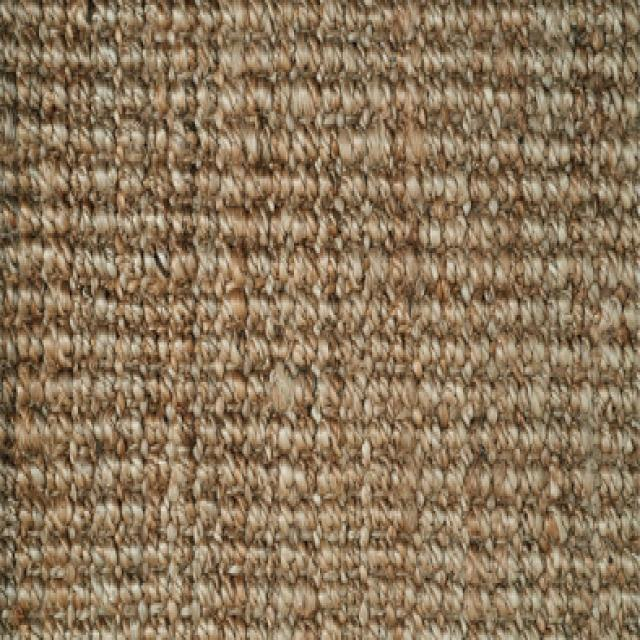Knot: (244, 494, 274, 546), (116, 120, 146, 166), (490, 465, 519, 510), (520, 465, 549, 510), (143, 248, 169, 296), (390, 463, 414, 514), (92, 164, 118, 211), (366, 127, 393, 172), (168, 123, 196, 166), (14, 332, 44, 372), (367, 83, 396, 124), (44, 245, 71, 289), (338, 171, 366, 213), (15, 244, 43, 286), (339, 252, 367, 294), (340, 296, 368, 338), (92, 578, 120, 620), (522, 126, 548, 171), (521, 380, 550, 420), (319, 376, 344, 422), (470, 1, 498, 42), (41, 120, 69, 161), (528, 2, 554, 46), (220, 80, 246, 124), (292, 250, 318, 294), (493, 336, 523, 374), (246, 80, 273, 122), (293, 82, 320, 124), (47, 334, 74, 376), (40, 164, 68, 204), (416, 465, 444, 505), (548, 126, 572, 172), (552, 384, 575, 432), (14, 204, 43, 242), (218, 298, 247, 336), (219, 124, 244, 168), (494, 170, 520, 212), (592, 174, 618, 216), (418, 290, 444, 332), (390, 381, 418, 420), (444, 382, 470, 424), (464, 464, 490, 506), (12, 380, 44, 414), (14, 464, 48, 496), (16, 504, 50, 536), (118, 82, 148, 118), (119, 168, 146, 208), (170, 250, 194, 295), (14, 420, 44, 456), (14, 76, 42, 114), (168, 84, 196, 122), (394, 128, 422, 166), (244, 172, 272, 210), (546, 216, 574, 254), (594, 470, 622, 508), (196, 250, 220, 294), (494, 47, 524, 82), (393, 250, 418, 292), (500, 2, 526, 42), (596, 344, 622, 384), (38, 38, 66, 75), (392, 338, 420, 375), (246, 125, 271, 166), (170, 297, 196, 336), (247, 248, 269, 294), (270, 250, 292, 296), (200, 496, 222, 542), (366, 464, 389, 508), (342, 84, 366, 126), (293, 169, 317, 211), (94, 252, 118, 294), (169, 380, 197, 416), (365, 382, 389, 424), (170, 494, 198, 530), (465, 511, 493, 547), (393, 6, 418, 46), (339, 128, 364, 168), (444, 130, 469, 170), (421, 170, 446, 210), (419, 250, 444, 290), (120, 252, 142, 297), (223, 249, 245, 294), (274, 502, 296, 547), (549, 292, 572, 335), (44, 206, 70, 244), (217, 208, 243, 246), (142, 298, 168, 336), (168, 452, 197, 486), (146, 168, 170, 209), (392, 209, 420, 244), (493, 380, 518, 419), (392, 293, 419, 329), (69, 164, 91, 208), (522, 174, 544, 218), (320, 508, 342, 552), (16, 160, 39, 202), (368, 252, 391, 294), (92, 4, 118, 41), (223, 5, 249, 42), (444, 1, 470, 38), (14, 118, 40, 155), (16, 288, 42, 325), (366, 6, 390, 46), (42, 78, 66, 118), (496, 126, 520, 166), (494, 252, 518, 292), (546, 255, 570, 295), (550, 340, 574, 380), (120, 494, 144, 534), (496, 86, 524, 120), (117, 340, 145, 374), (15, 582, 43, 616), (196, 580, 224, 614), (568, 586, 596, 620), (15, 38, 40, 76), (395, 172, 420, 210), (521, 214, 546, 252), (117, 298, 142, 336), (293, 296, 318, 334), (422, 338, 447, 376), (269, 378, 294, 416), (46, 416, 71, 454), (74, 418, 99, 456), (45, 543, 70, 581), (471, 169, 493, 212), (295, 375, 317, 418), (96, 497, 118, 540), (93, 42, 119, 78), (521, 255, 545, 294), (44, 293, 70, 329), (597, 387, 621, 426), (318, 466, 342, 505), (417, 506, 443, 542), (13, 544, 44, 574), (522, 294, 547, 331), (47, 502, 72, 539), (444, 80, 466, 122), (72, 249, 94, 291), (339, 215, 367, 248), (445, 296, 467, 338), (470, 334, 492, 376), (470, 382, 492, 424), (518, 425, 546, 458), (318, 581, 346, 614), (93, 122, 116, 162), (294, 125, 317, 165), (344, 458, 364, 504), (67, 40, 91, 78), (595, 128, 619, 166), (118, 536, 142, 574), (117, 212, 143, 247), (168, 212, 194, 247), (197, 122, 217, 167), (416, 428, 446, 458), (219, 454, 244, 490), (442, 47, 470, 79), (90, 82, 118, 114), (414, 584, 442, 616), (172, 43, 196, 80), (320, 43, 344, 80), (246, 456, 270, 493), (146, 6, 172, 40), (218, 172, 244, 206), (366, 174, 392, 208), (168, 576, 194, 610), (198, 4, 220, 44), (70, 122, 92, 162), (271, 128, 293, 168), (573, 126, 593, 170), (172, 169, 194, 209), (146, 494, 168, 534), (224, 498, 244, 542), (196, 82, 219, 120), (397, 84, 420, 122), (525, 338, 548, 376), (245, 416, 268, 454), (270, 418, 293, 456), (46, 382, 74, 413), (144, 42, 168, 78), (470, 48, 494, 84), (470, 130, 494, 166), (494, 298, 518, 334), (572, 294, 596, 330), (493, 512, 517, 548), (519, 514, 546, 546), (573, 550, 597, 586), (442, 582, 466, 618), (321, 83, 342, 124), (248, 295, 269, 336), (572, 465, 592, 508), (250, 7, 276, 40), (446, 170, 468, 209), (118, 382, 144, 415), (291, 338, 316, 372), (119, 416, 144, 450), (291, 214, 315, 249), (196, 296, 216, 338), (245, 344, 273, 374), (550, 465, 571, 505), (94, 212, 116, 250), (446, 249, 468, 287), (368, 297, 390, 335), (598, 294, 620, 332), (420, 380, 442, 418), (274, 458, 296, 496), (598, 546, 620, 584), (492, 588, 518, 620), (592, 2, 610, 48), (274, 80, 292, 126), (468, 85, 493, 118), (72, 292, 92, 333), (548, 48, 572, 82), (446, 212, 470, 246), (92, 298, 116, 332), (342, 338, 366, 372), (366, 338, 390, 372), (196, 416, 220, 450), (596, 512, 620, 546), (146, 210, 168, 247), (471, 254, 493, 291), (146, 454, 168, 491), (622, 290, 640, 335), (94, 459, 120, 490), (525, 47, 548, 82), (572, 4, 592, 44), (148, 124, 168, 164), (576, 346, 596, 386), (222, 578, 247, 610), (319, 126, 338, 168), (71, 210, 92, 248), (197, 454, 218, 492), (420, 4, 442, 40), (120, 43, 142, 79), (546, 176, 568, 212), (270, 298, 292, 334), (318, 337, 342, 370), (345, 376, 363, 420), (296, 464, 318, 500), (170, 538, 192, 574), (366, 544, 388, 580), (247, 48, 274, 77), (295, 44, 318, 78), (245, 212, 268, 246), (471, 216, 494, 250), (222, 416, 245, 450), (343, 424, 366, 458), (49, 462, 72, 496), (545, 548, 568, 582), (319, 295, 339, 334), (168, 418, 194, 448), (44, 585, 70, 615), (295, 420, 316, 457), (446, 464, 464, 507), (196, 213, 218, 248), (344, 549, 366, 584), (16, 2, 40, 34), (496, 216, 520, 248), (572, 257, 596, 289), (122, 457, 146, 489), (390, 545, 414, 577), (416, 548, 440, 580), (468, 554, 492, 586), (494, 551, 518, 583), (422, 82, 442, 120), (196, 170, 216, 208), (273, 170, 292, 210), (620, 174, 640, 212), (550, 84, 573, 117), (549, 512, 572, 545), (174, 4, 195, 40), (543, 586, 564, 622), (220, 548, 246, 577), (298, 4, 320, 38), (422, 212, 444, 246), (146, 416, 168, 450), (318, 426, 340, 460), (70, 584, 92, 618), (94, 542, 116, 576), (121, 8, 145, 39), (92, 379, 116, 410), (68, 79, 87, 118), (223, 376, 243, 413), (318, 170, 336, 211), (576, 388, 594, 429), (368, 212, 391, 244), (494, 428, 517, 460), (272, 552, 298, 580), (442, 554, 468, 582), (322, 4, 342, 40), (220, 48, 244, 78), (148, 84, 168, 120), (320, 252, 338, 292), (470, 298, 490, 334), (622, 346, 640, 386), (246, 378, 266, 414), (100, 416, 118, 456), (390, 514, 414, 544), (574, 512, 594, 548), (599, 588, 620, 622), (520, 550, 543, 581), (526, 85, 548, 117), (595, 220, 617, 252), (598, 258, 620, 290), (472, 432, 494, 464), (74, 500, 96, 532), (144, 540, 166, 572), (146, 574, 168, 606), (366, 511, 388, 543), (444, 513, 466, 545), (299, 506, 318, 543), (40, 4, 66, 31), (572, 177, 590, 216), (198, 45, 218, 80), (145, 340, 168, 370), (367, 427, 390, 457), (196, 548, 219, 578), (554, 4, 572, 42), (424, 130, 442, 168), (622, 130, 640, 168), (318, 214, 338, 248), (74, 336, 94, 370), (95, 336, 116, 368), (148, 382, 169, 414), (72, 460, 96, 488), (345, 510, 363, 547), (622, 511, 640, 548), (68, 4, 90, 34), (344, 47, 364, 80), (221, 340, 243, 370), (448, 430, 470, 460), (296, 584, 318, 614), (520, 586, 542, 616), (392, 583, 413, 614), (170, 341, 195, 367), (344, 2, 362, 38), (573, 50, 591, 86), (623, 468, 640, 506), (575, 432, 598, 460), (617, 426, 640, 454), (245, 550, 268, 578), (624, 45, 640, 85), (72, 542, 94, 571), (619, 256, 640, 286), (575, 217, 594, 250), (278, 6, 298, 37), (196, 342, 218, 370), (198, 386, 220, 414), (550, 432, 572, 460), (367, 582, 389, 610), (449, 340, 467, 374), (74, 380, 92, 414), (622, 390, 640, 424), (273, 583, 294, 612), (248, 580, 268, 610), (272, 214, 290, 246), (392, 430, 416, 454), (468, 586, 486, 618), (621, 220, 640, 250), (610, 2, 624, 42), (320, 552, 340, 580), (625, 87, 640, 124), (625, 2, 640, 38), (380, 50, 398, 80), (622, 553, 640, 583), (400, 54, 420, 80), (120, 579, 140, 605), (276, 48, 294, 76), (272, 339, 290, 366), (608, 50, 622, 84), (300, 552, 318, 578), (349, 585, 365, 614), (593, 88, 609, 116), (600, 427, 616, 455), (422, 50, 440, 74), (594, 48, 606, 84), (366, 47, 380, 77), (621, 596, 640, 618), (574, 88, 590, 112), (612, 88, 624, 118)
